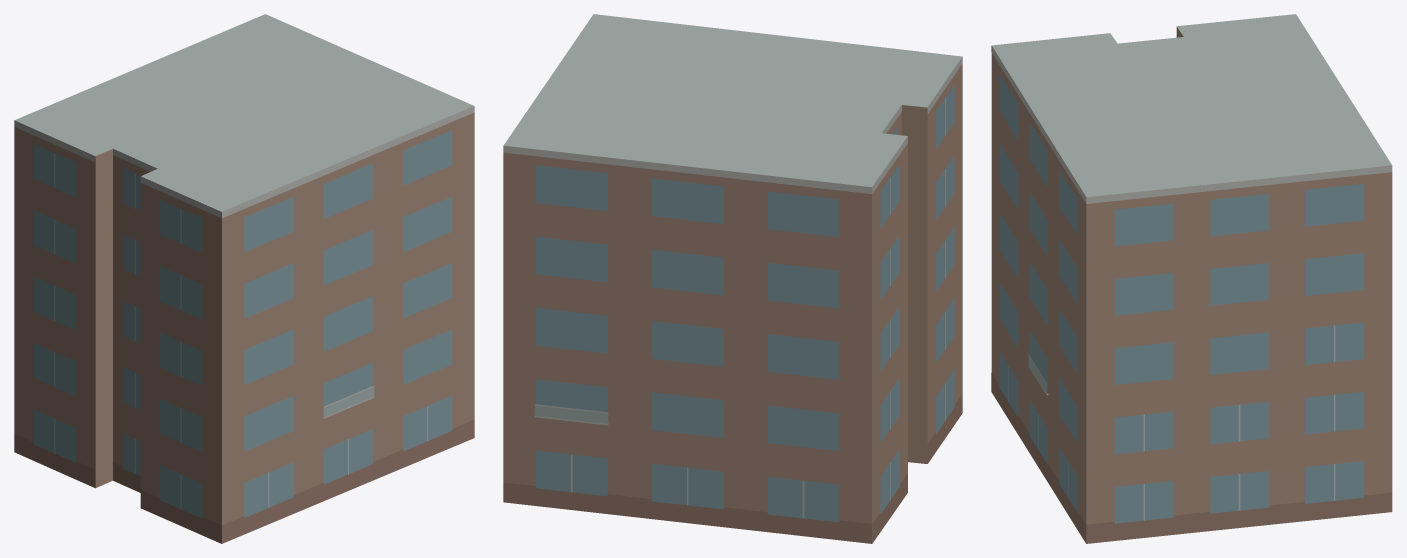
Rendered from survey-upis-32661478.glb.
The picture shows the model from 3 angles, left to right: view 1: azimuth 30°, elevation 25°; view 2: azimuth 150°, elevation 25°; view 3: azimuth 270°, elevation 25°; orthographic projection. The views are drawn at different scales.
Visible parts, largest first — view 1: survey-upis-32661478.tmp; view 2: survey-upis-32661478.tmp; view 3: survey-upis-32661478.tmp.
Part boxes in pixels (<box>): survey-upis-32661478.tmp: <box>14,14,474,543</box>; survey-upis-32661478.tmp: <box>503,14,962,543</box>; survey-upis-32661478.tmp: <box>991,14,1392,543</box>.
Bounding box in the file's own units: 14.3 × 12.6 × 13.22.
